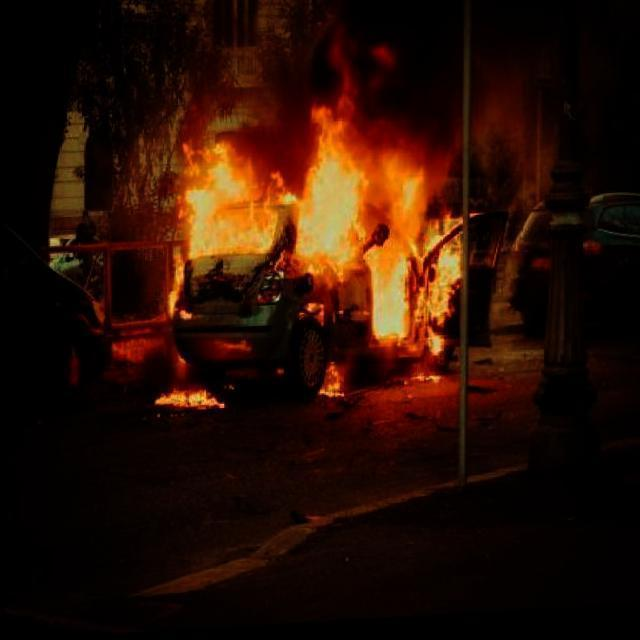Fire: (188, 97, 360, 256), (370, 234, 411, 340), (418, 220, 458, 323), (155, 384, 219, 408)
